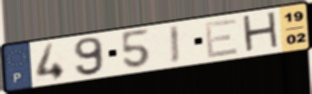4: (34, 40, 68, 82)
5: (119, 27, 152, 72)
9: (73, 35, 106, 77)
E: (203, 16, 241, 60)
H: (240, 10, 283, 56)
I: (167, 24, 182, 66)
